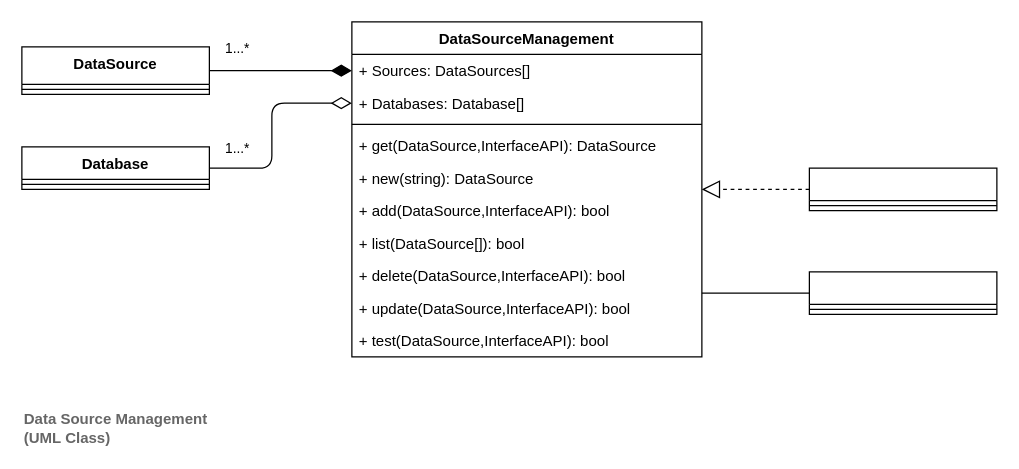
Some shapes in this 1019 by 469 pixel diagram are drawn without their labels. The centre of each missing label's shape, as x and y in pixels:
"Exception" goes at point (902, 292).
"InterfaceAPI" goes at point (902, 189).
